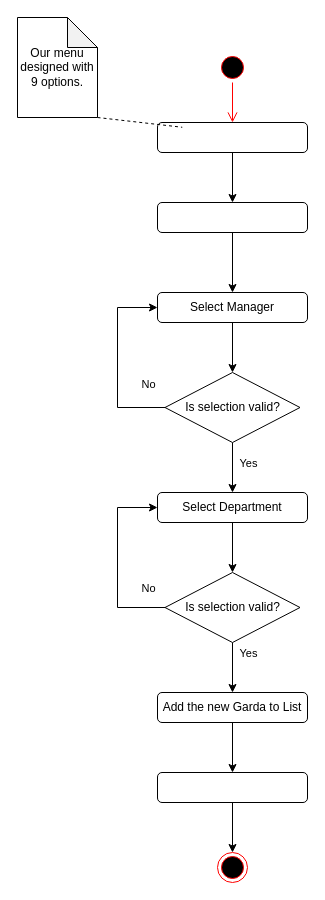
This 325x900 diagram has some shape labels left out. Each missing label, with the box of its shape:
Display Confirmation: (156, 772, 308, 802)
Enter Garda name: (156, 202, 308, 232)
Select '3.ADD_RECORD' option: (156, 122, 308, 152)
